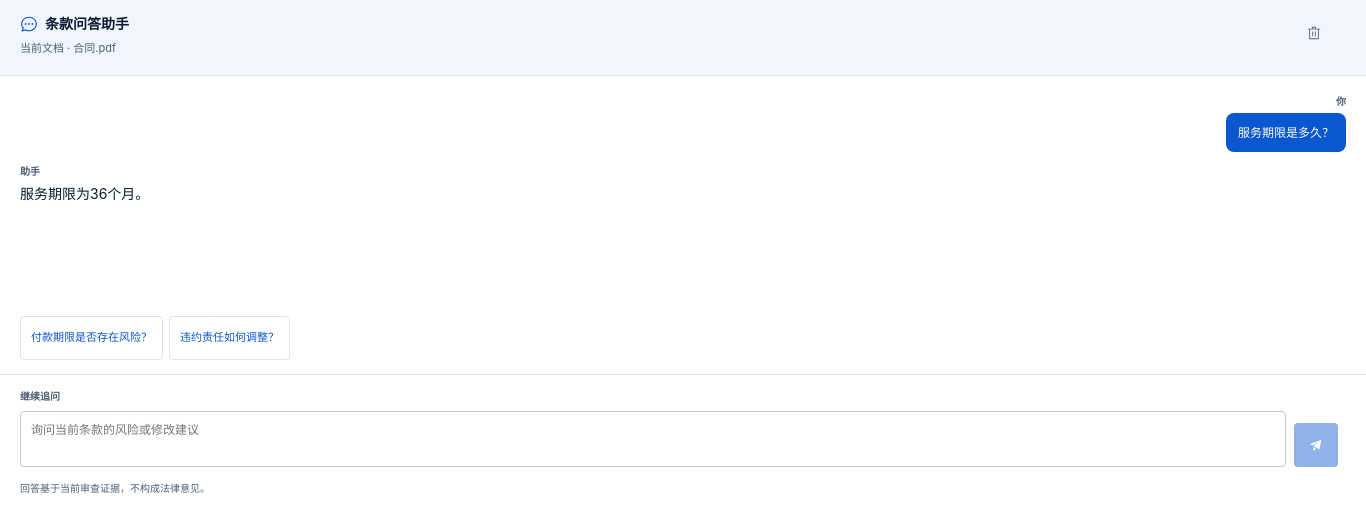
Test case: ReviewAssistant › reconciles authoritative messages when the stream connection fails
Type "追问" into the text box with test id "assistant-input" at (653, 438), box [20,410,1286,466]
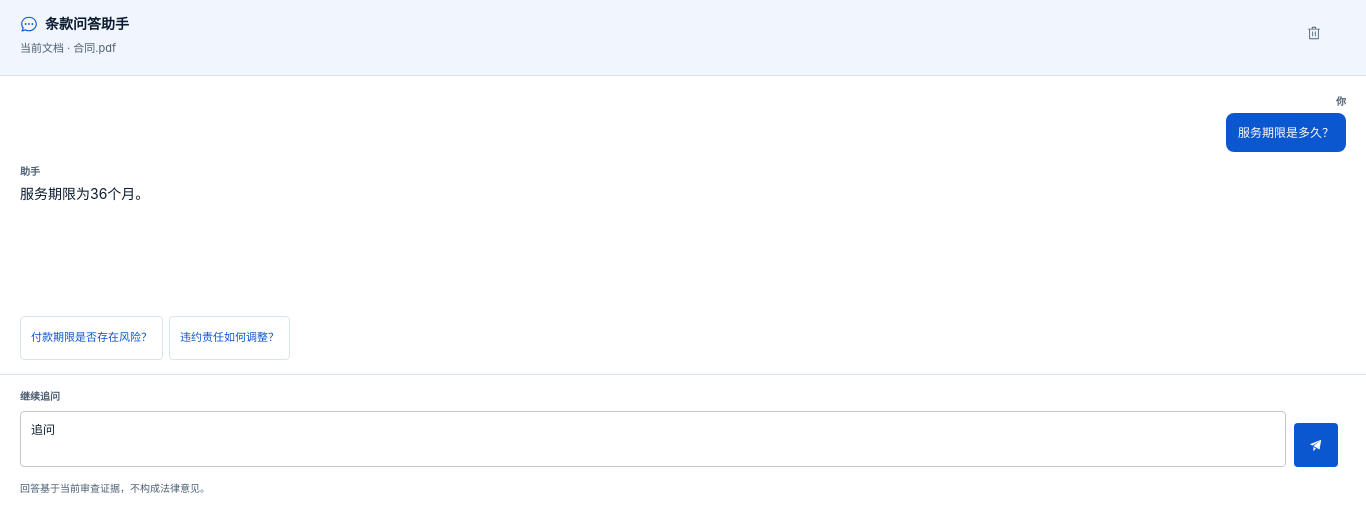
Click the button with test id "assistant-send" at (1316, 444), box [1294,422,1338,466]
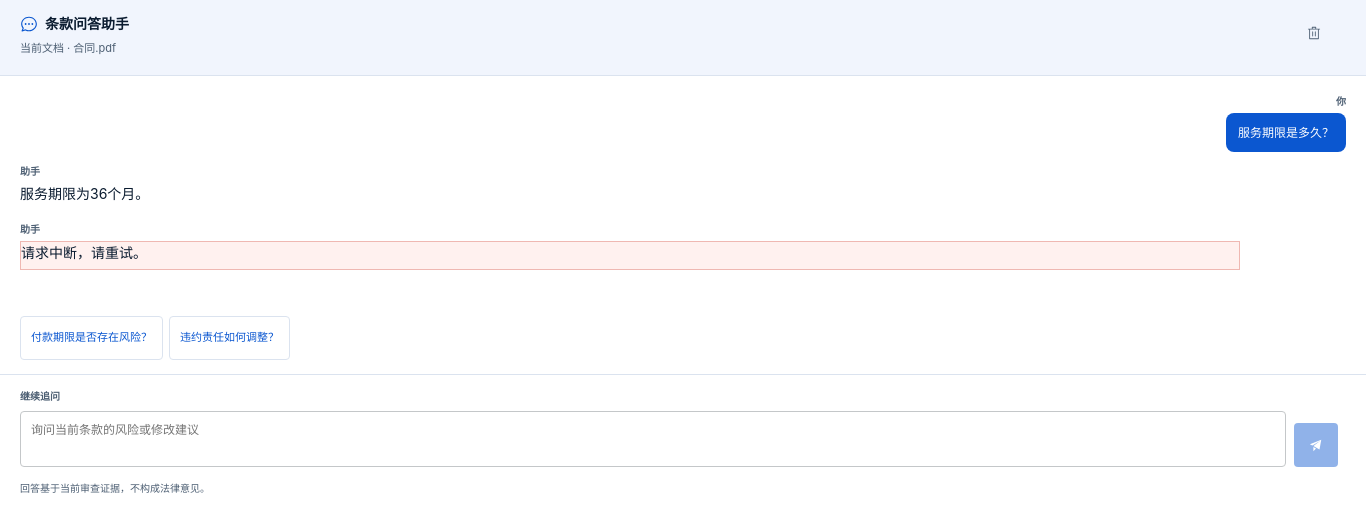
Check: the text "请求中断，请重试。" is shown, box [21,244,147,261]
